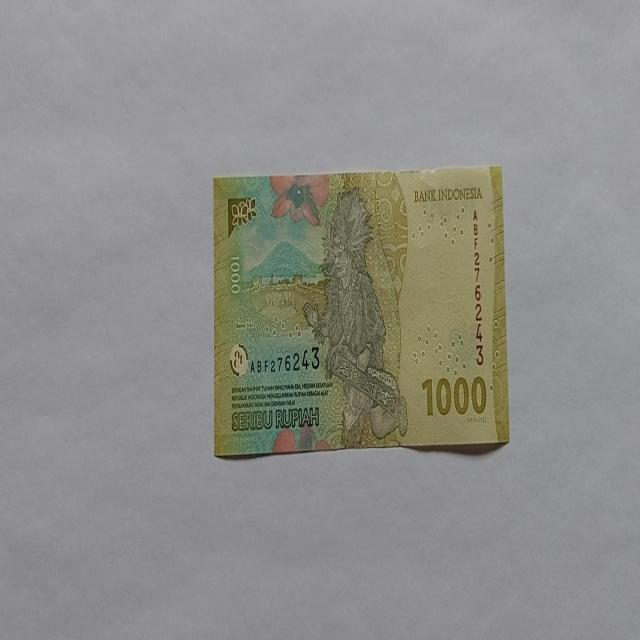seribu rupiah kertas: (212, 164, 510, 458)
